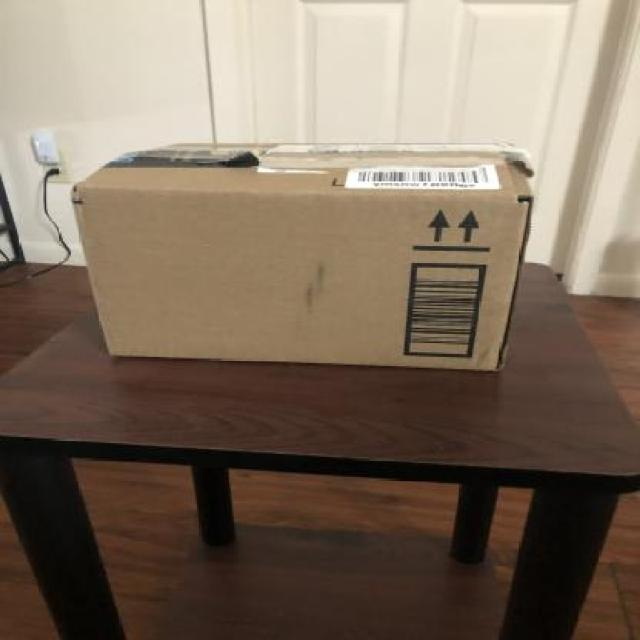cardboxes: (59, 130, 536, 382)
